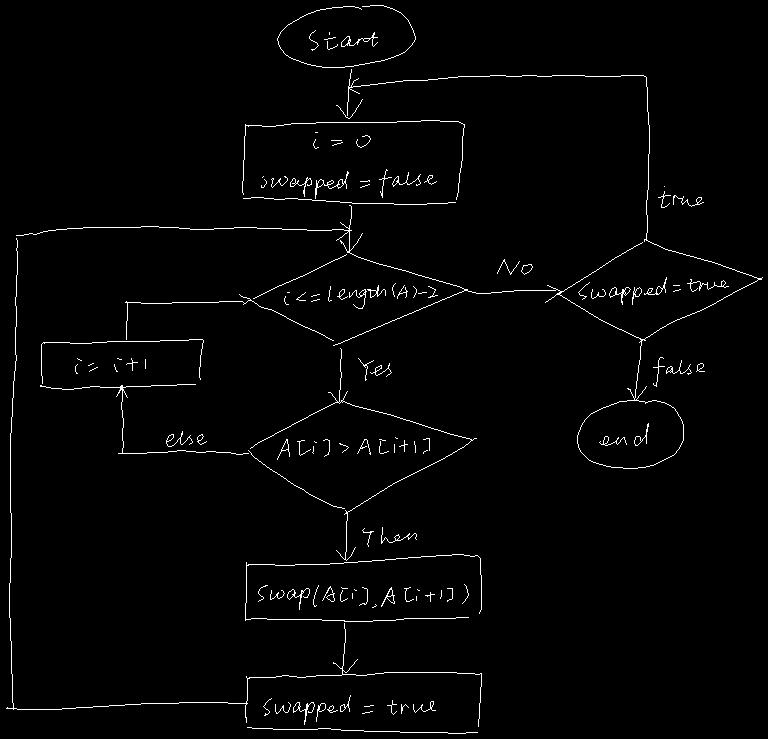arrow: (6, 222, 351, 709), (348, 75, 649, 239), (116, 385, 248, 454), (125, 294, 250, 339), (465, 285, 561, 302), (336, 69, 362, 118), (333, 620, 357, 673), (627, 339, 646, 400), (328, 348, 347, 403), (340, 205, 362, 252), (336, 510, 355, 560)
decision: (248, 400, 476, 514), (557, 239, 762, 342), (250, 252, 467, 345)
process: (242, 120, 464, 204), (245, 554, 481, 621), (245, 672, 481, 733), (40, 339, 203, 389)
terminator: (277, 5, 415, 67), (577, 400, 683, 468)
text: (261, 132, 436, 198), (258, 584, 468, 609), (263, 695, 435, 724), (578, 277, 728, 304), (284, 283, 437, 308), (277, 437, 429, 459), (653, 357, 704, 386), (309, 30, 377, 50), (599, 423, 648, 445), (75, 358, 145, 373), (362, 527, 416, 546), (658, 186, 703, 207), (358, 358, 391, 380), (166, 431, 206, 446), (497, 259, 532, 274)
